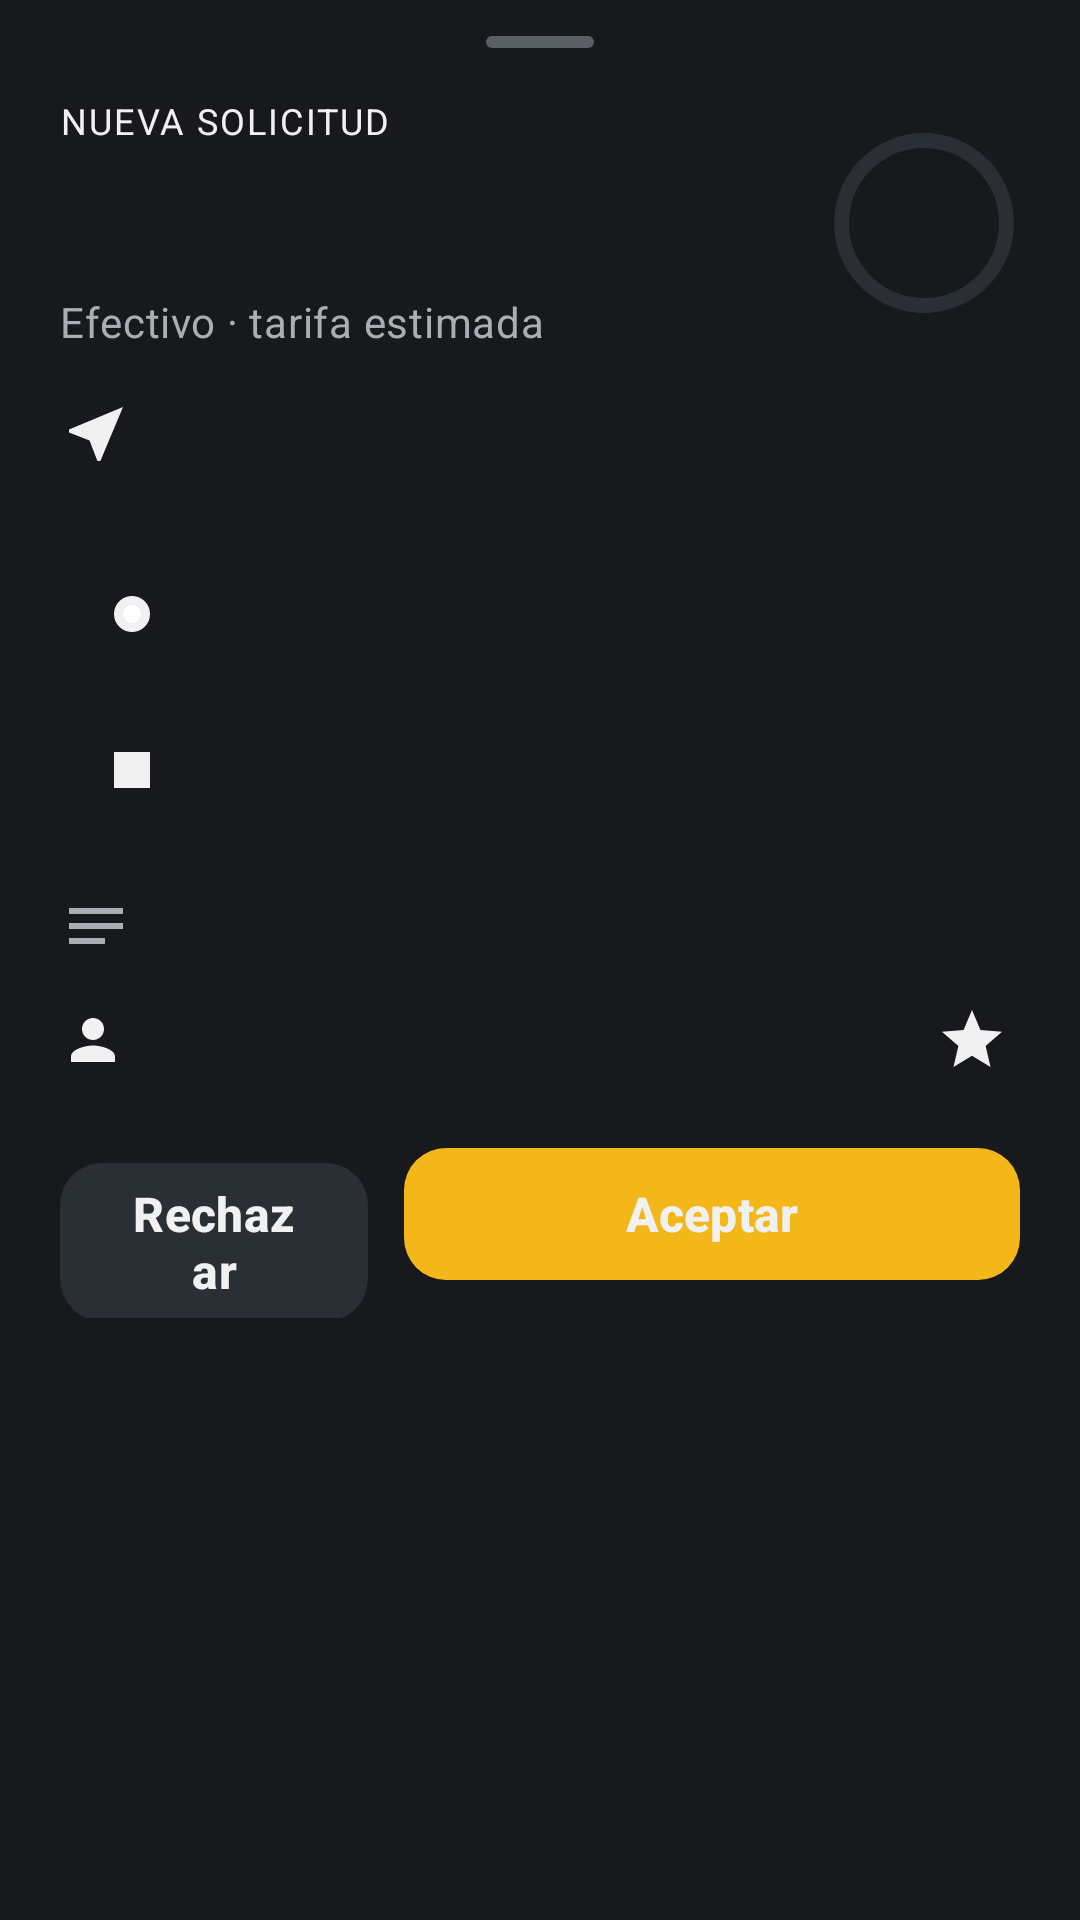

Icon bounding boxes for this 1080w x 1920h phone screenshot, format [left=x1, top=y1, right=x2, bottom=y2]:
persona: [left=71, top=1018, right=115, bottom=1062]
punto origen: [left=114, top=596, right=150, bottom=632]
